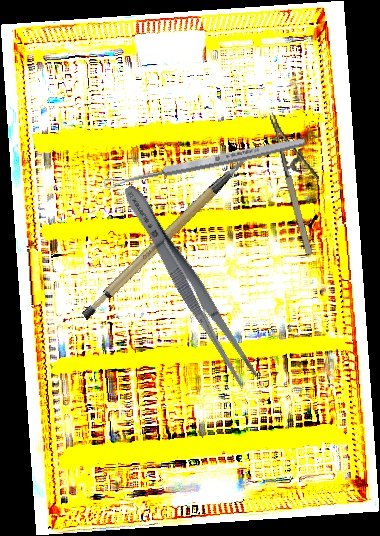Dressing Forceps: (115, 179, 262, 389)
Needle Holder: (268, 105, 336, 256)
Scalpel Handle: (62, 153, 273, 323)
Surgical Spoon: (101, 135, 308, 191)
